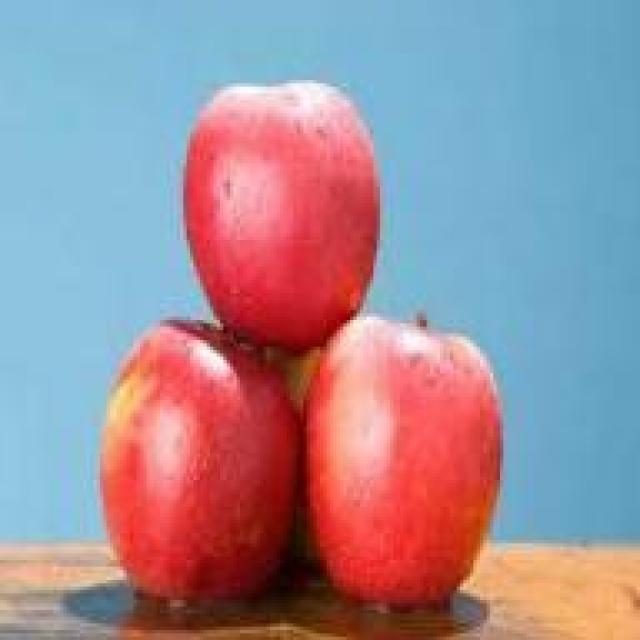apple: (307, 303, 503, 600), (184, 74, 384, 344), (100, 327, 300, 583)
